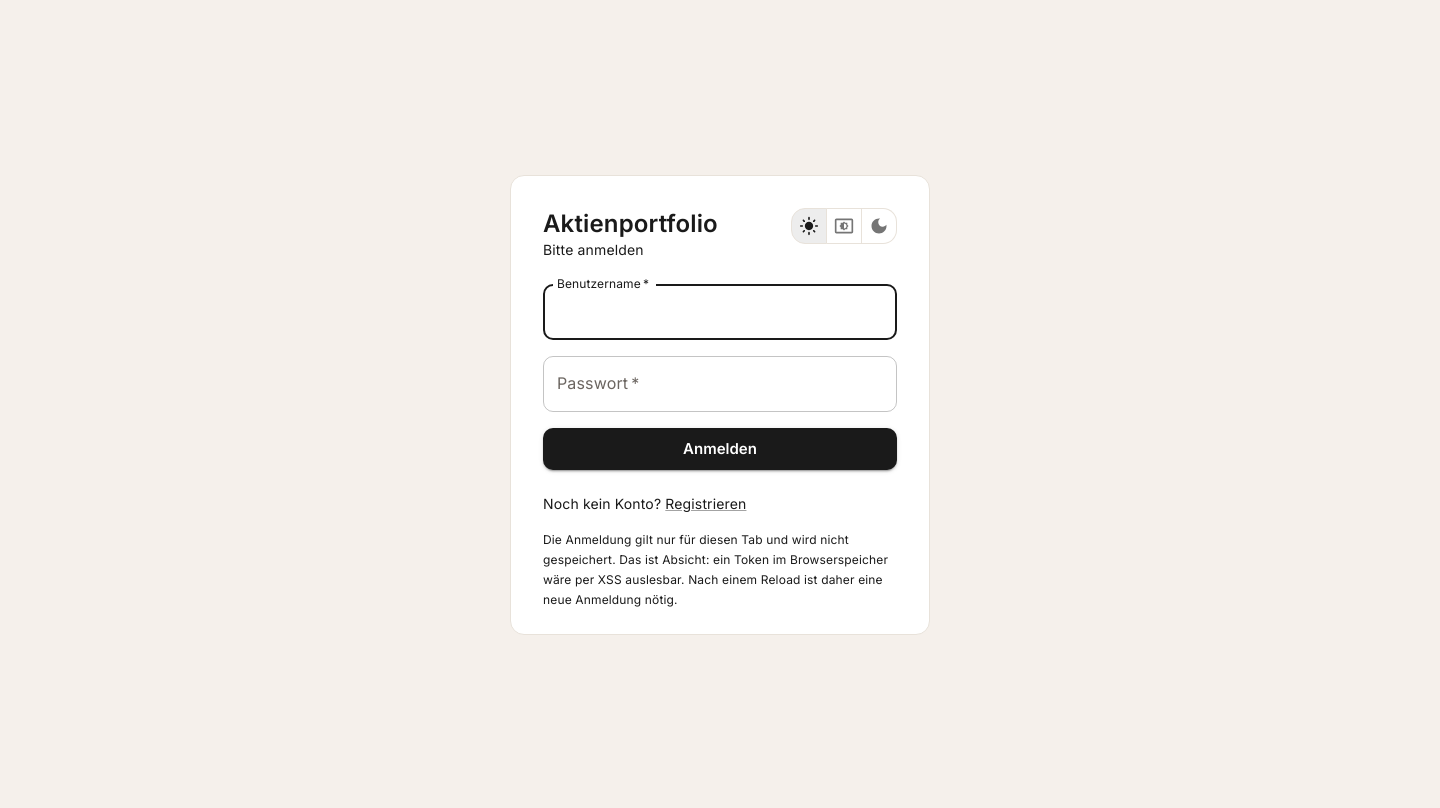
Test: Historischer Backtest › nennt Menge und Kaufdatum zum Ergebnis, damit die Zahlen zuordenbar bleiben
Type "demo" into the field labelled "Benutzername *" at (720, 312), box [543,284,897,340]
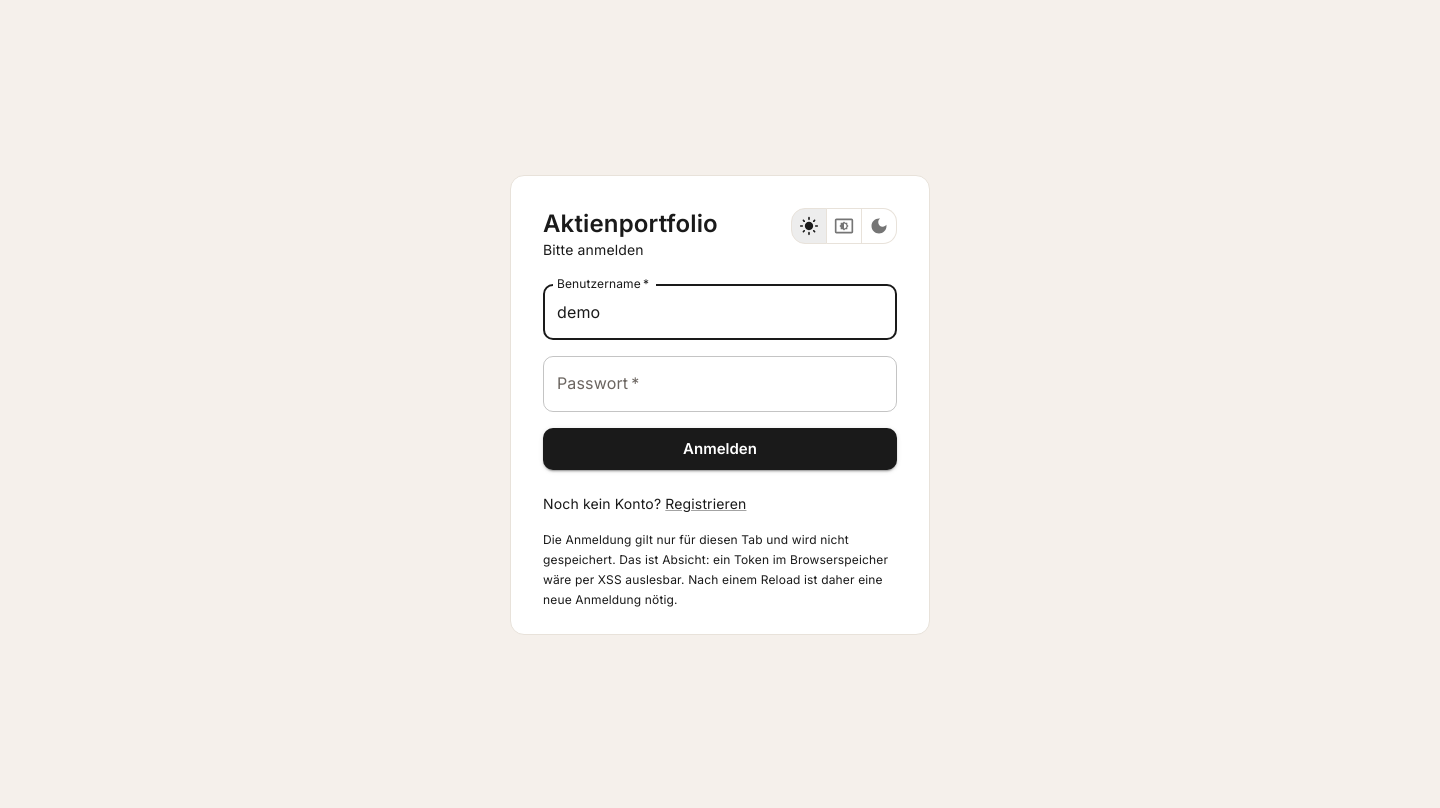
Type "demo1234" into the password field labelled "Passwort *" at (720, 384), box [543,356,897,412]
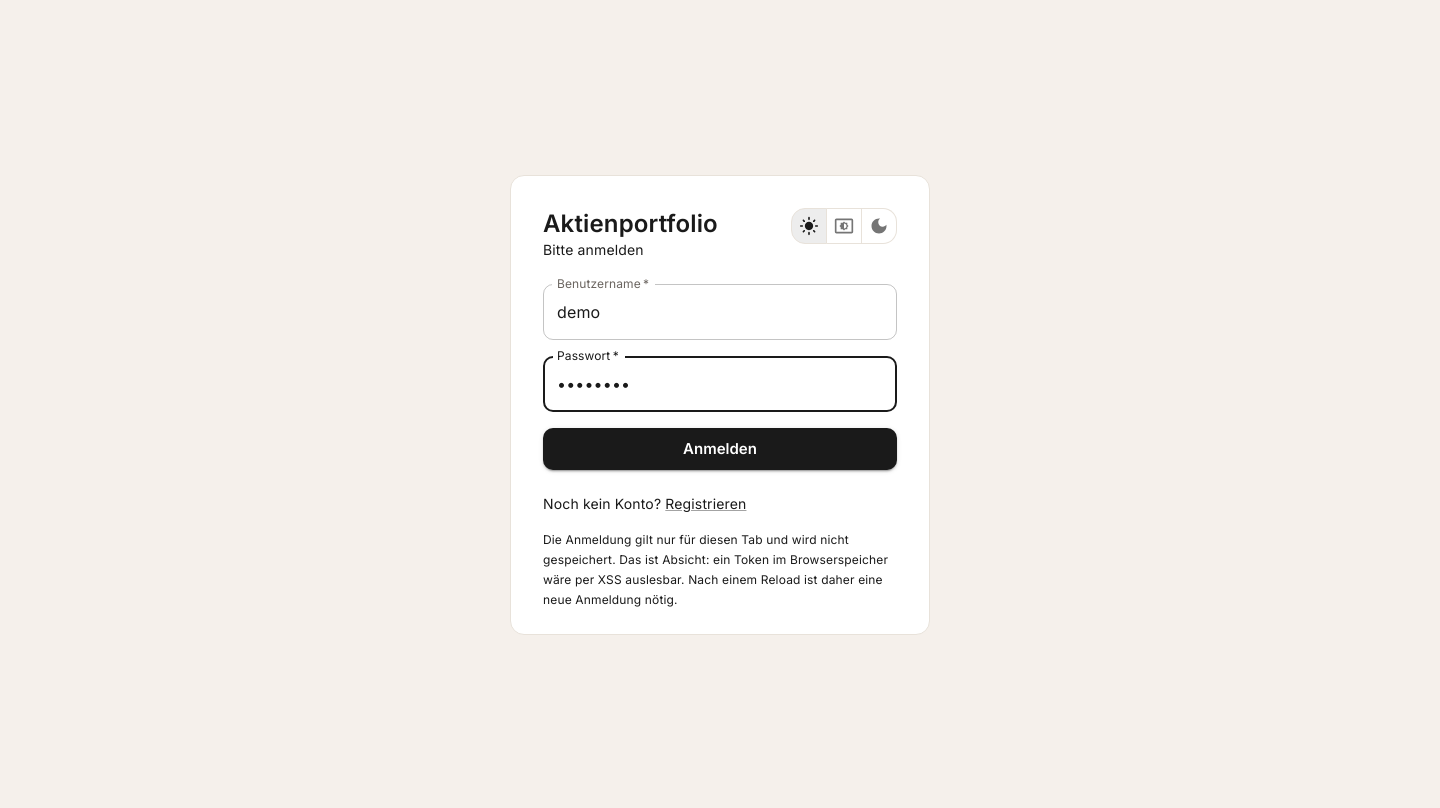
Click the button "Anmelden" at (720, 449), box [543,428,897,470]
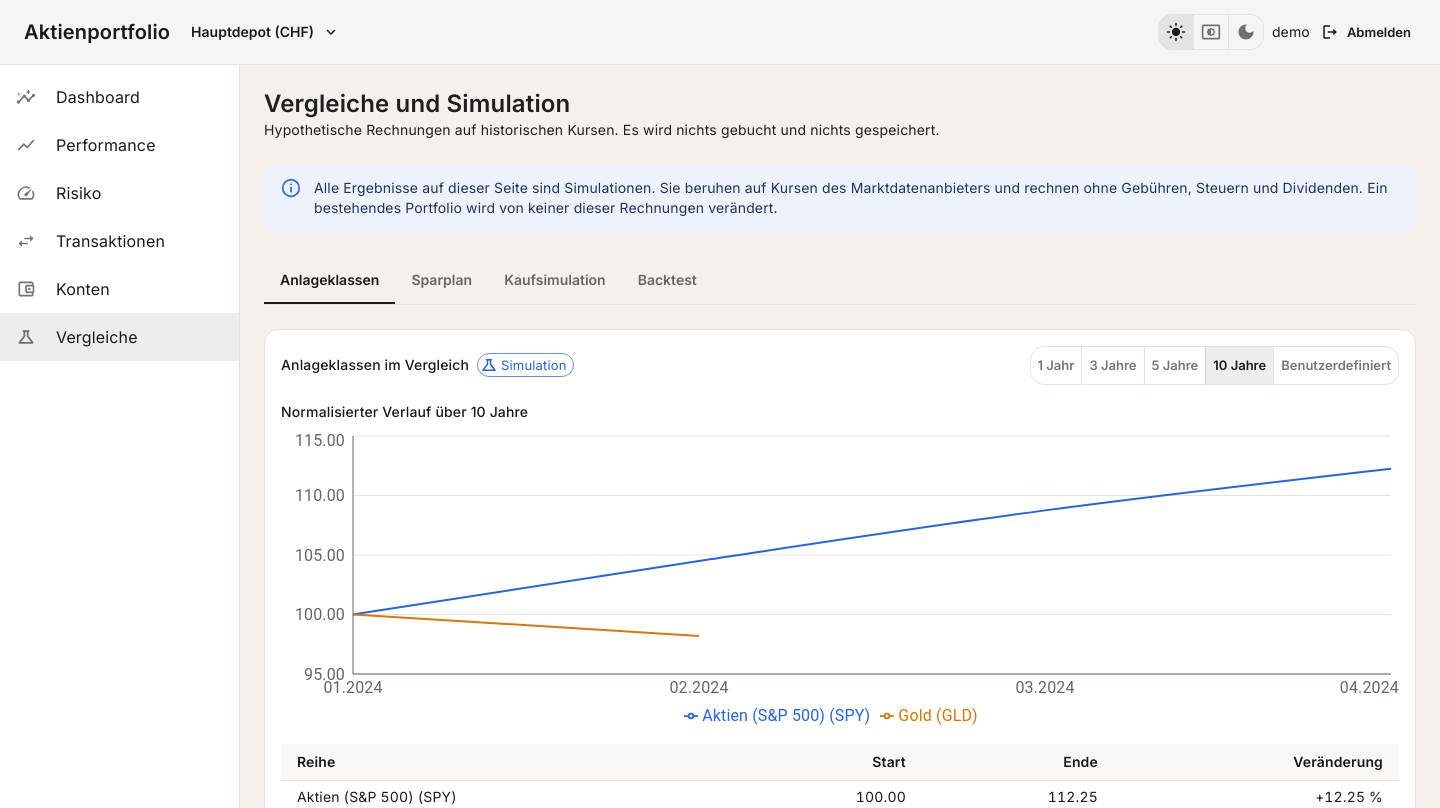
Check: the button "Abmelden" is shown, box [1318,17,1416,47]
Click the tab "Backtest" at (667, 280), box [622,256,713,304]
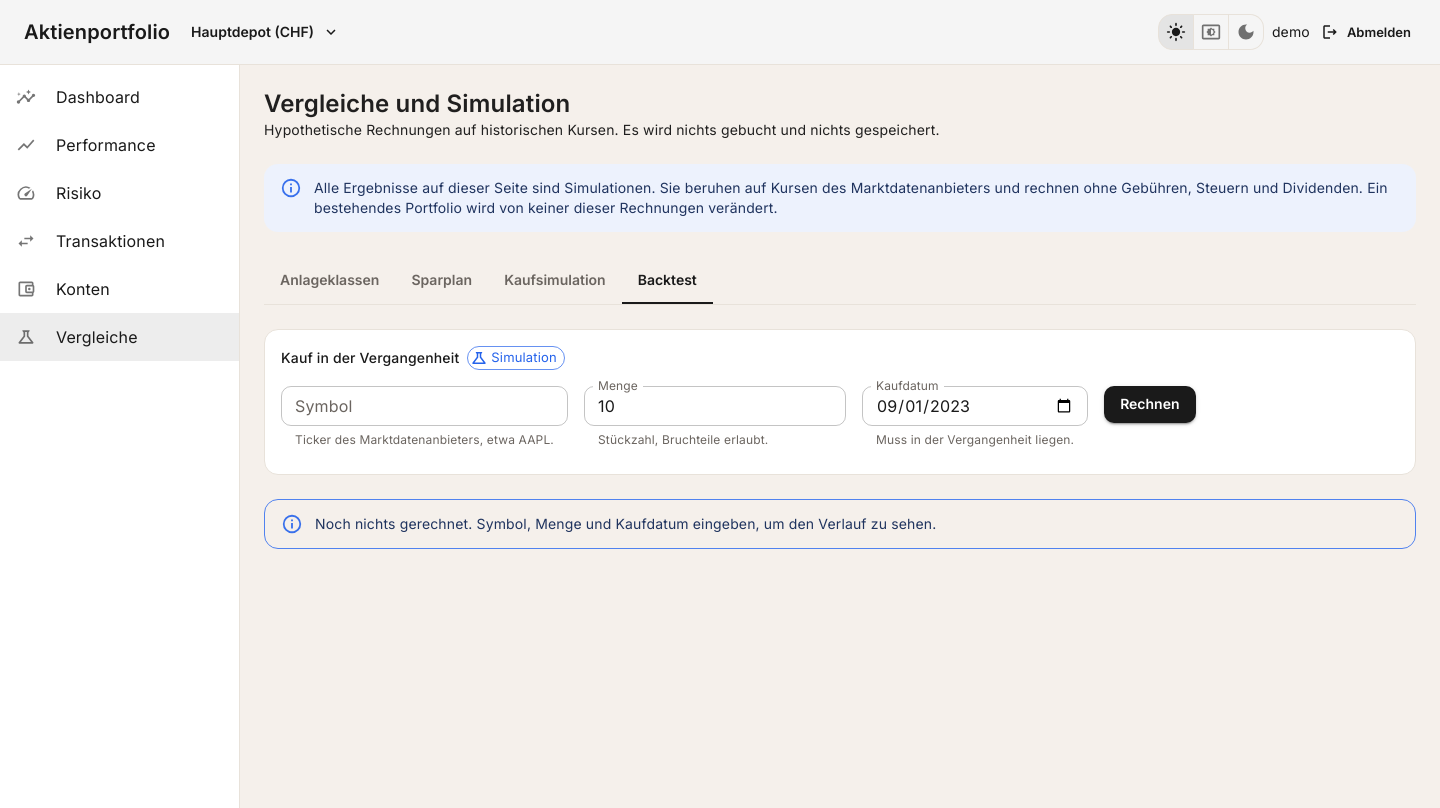
Check: the heading "Kauf in der Vergangenheit" is shown, box [281,347,459,369]
Type "AAPL" into the field labelled "Symbol" at (424, 406), box [281,386,568,426]
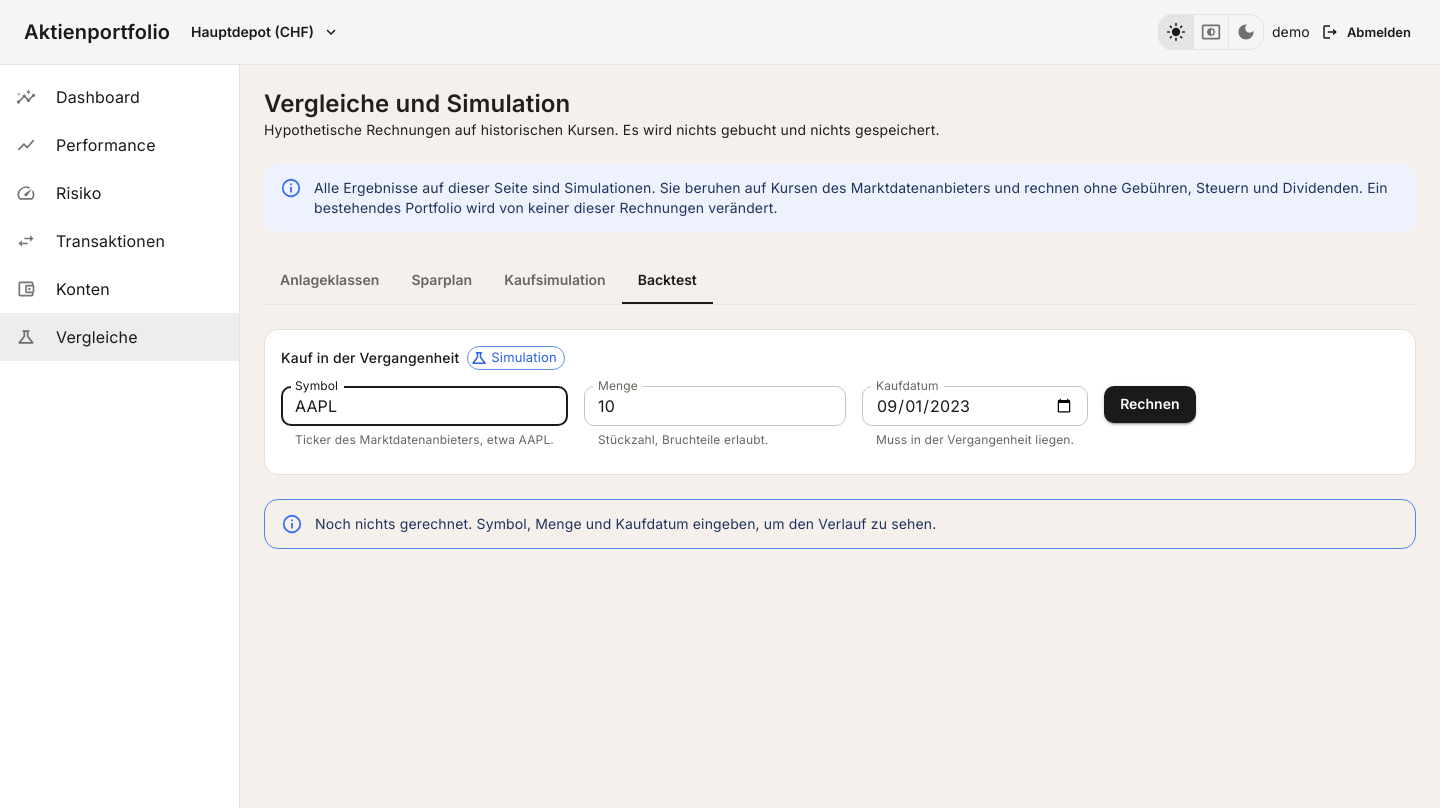
Click the button "Rechnen" at (1150, 404), box [1104,386,1196,423]
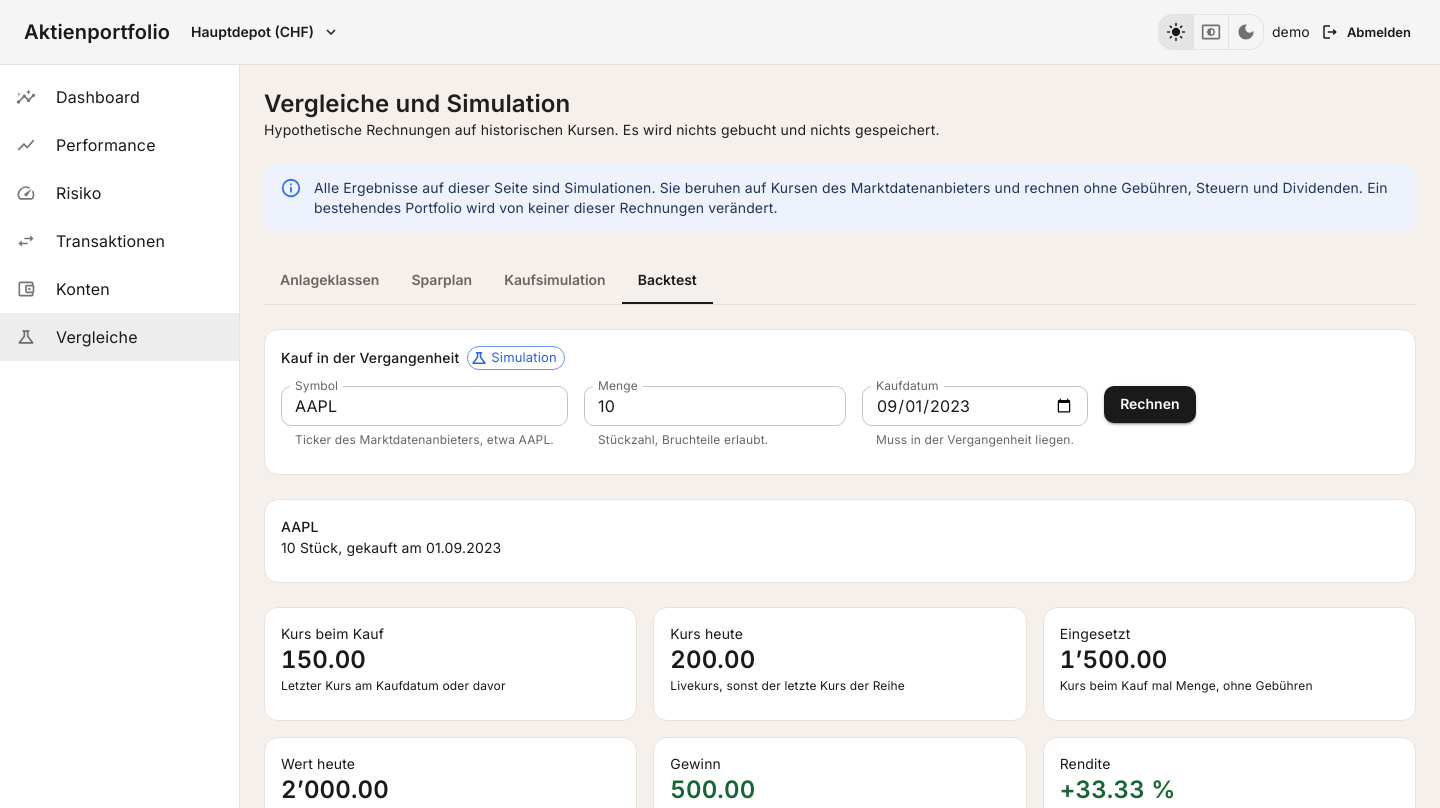
Check: the heading "AAPL" is shown, box [281,518,319,535]
